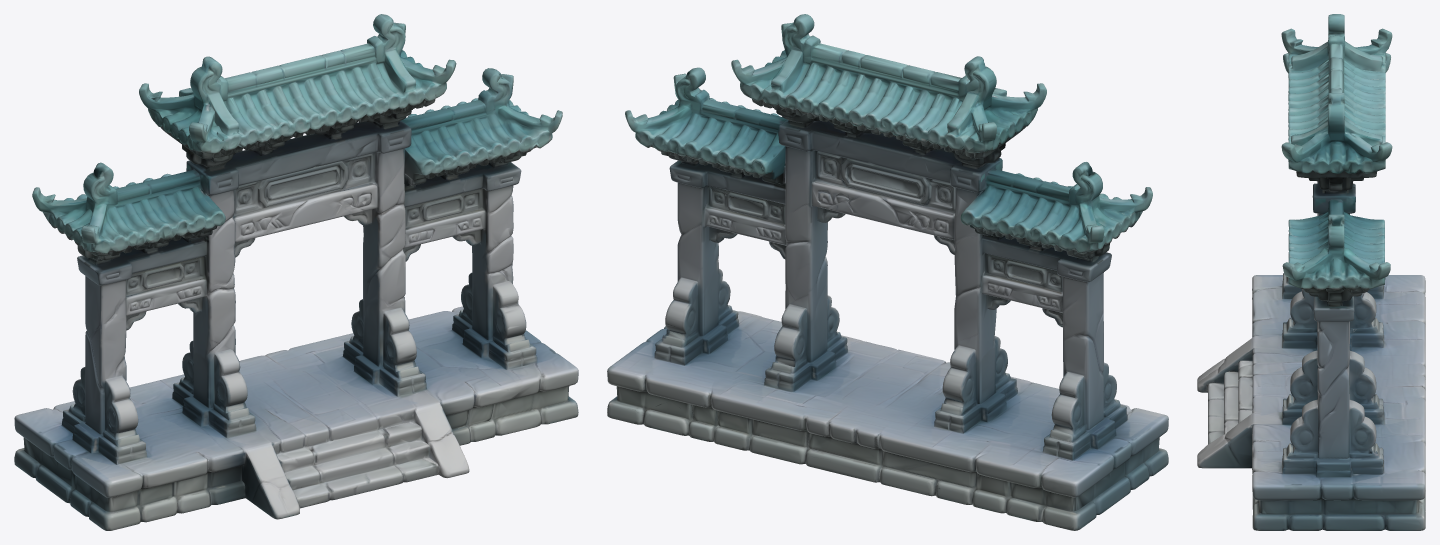
Rendered from gate_raw.glb.
3 views of the same model, side by side, from view 1: azimuth 30°, elevation 25°; view 2: azimuth 150°, elevation 25°; view 3: azimuth 270°, elevation 25° (orthographic). The views are drawn at different scales.
Visible parts, largest first — view 1: node_0; view 2: node_0; view 3: node_0.
Part boxes in pixels (x1,y1,x2,y2): node_0: [14, 14, 578, 530]; node_0: [607, 14, 1168, 530]; node_0: [1197, 14, 1425, 530].
Bounding box in the file's own units: 0.8976 × 0.7188 × 0.4018.
1 material, 1 textured.
